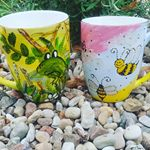cups: (1, 9, 73, 106), (77, 13, 150, 103)
